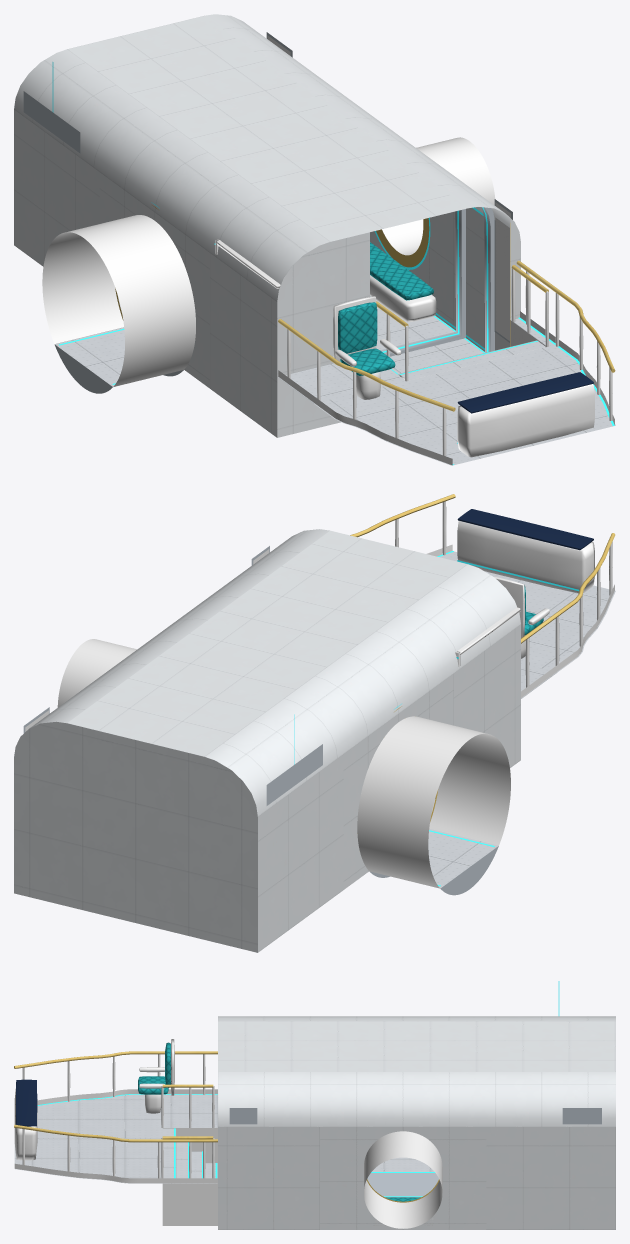
File: starpod_interior_v8.glb
3 views of the same model, one above another, from view 1: azimuth 30°, elevation 25°; view 2: azimuth 150°, elevation 25°; view 3: azimuth 270°, elevation 25° (orthographic). The views are drawn at different scales.
Size of the model in its own units: 7.28 by 4.2 by 13.01.
10 materials, 10 textured.
